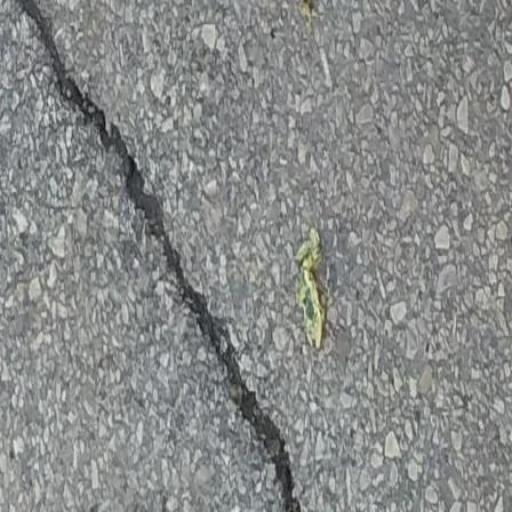spalling: (15, 3, 311, 512)
